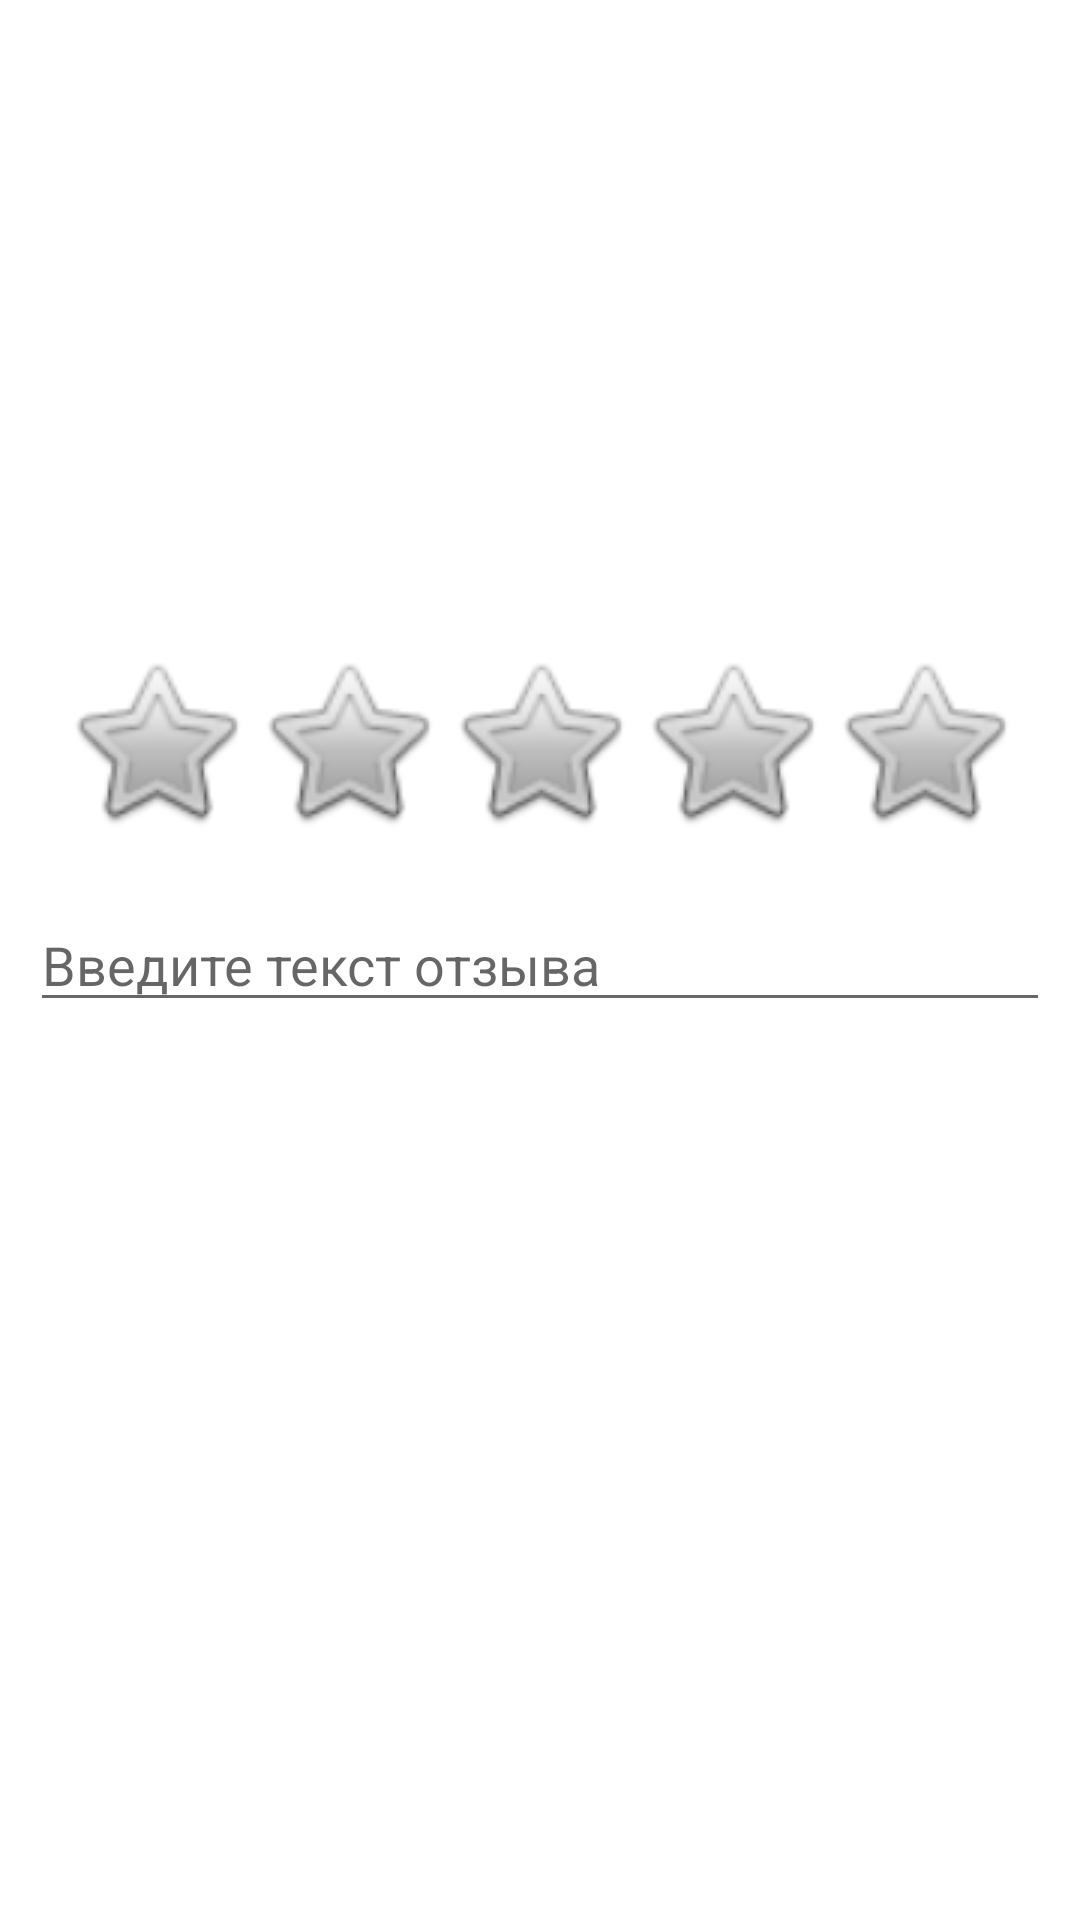

Named icons in this screenshot (1080×1920) and their bounding boxes, box=[x1, y1, x2, y2]:
star off: box=[77, 665, 238, 822], box=[269, 665, 430, 822], box=[461, 665, 622, 822], box=[653, 665, 814, 822], box=[845, 665, 1006, 822]
